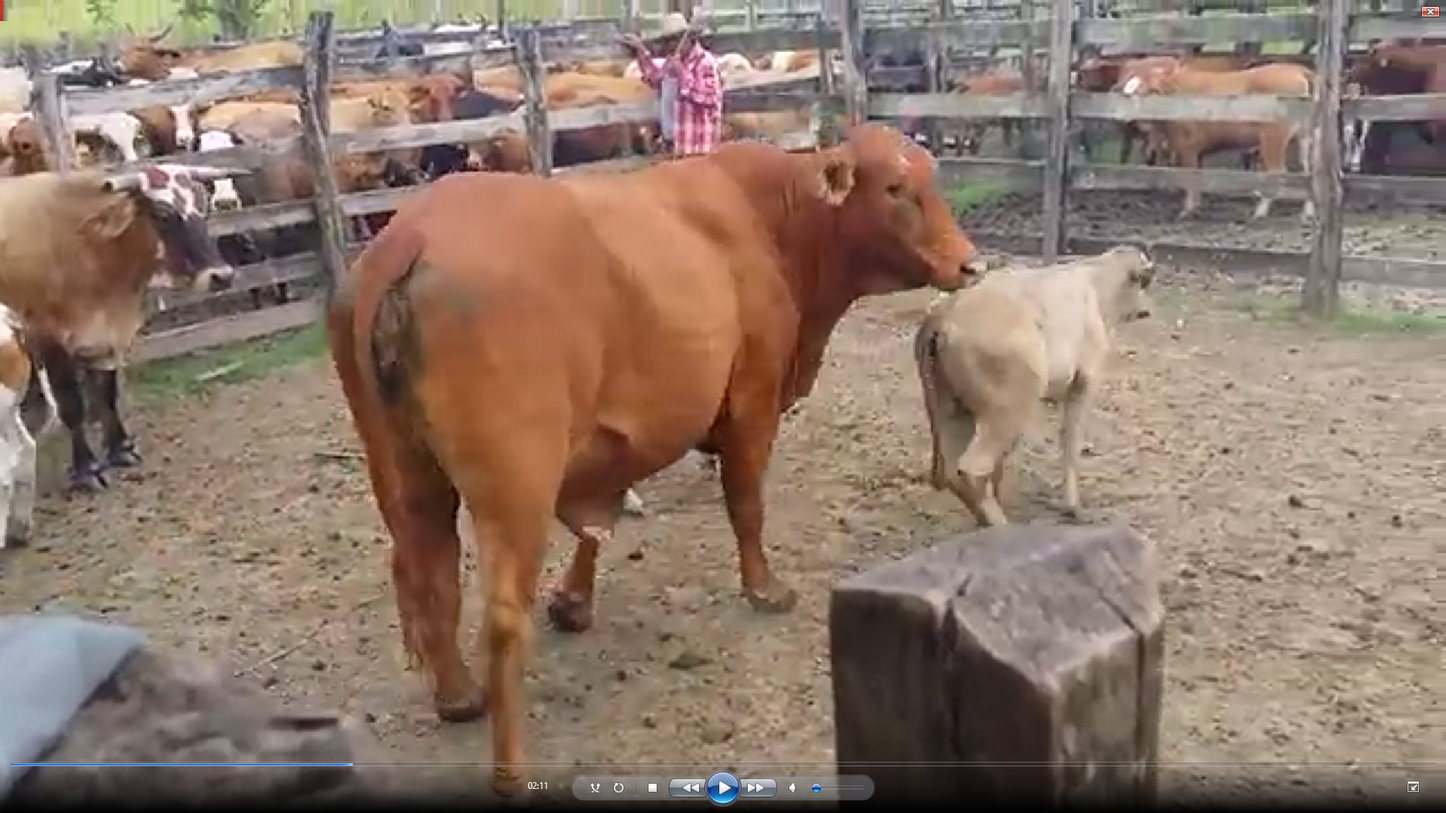bovino: (323, 128, 940, 761), (0, 138, 242, 493), (914, 238, 1158, 529)
